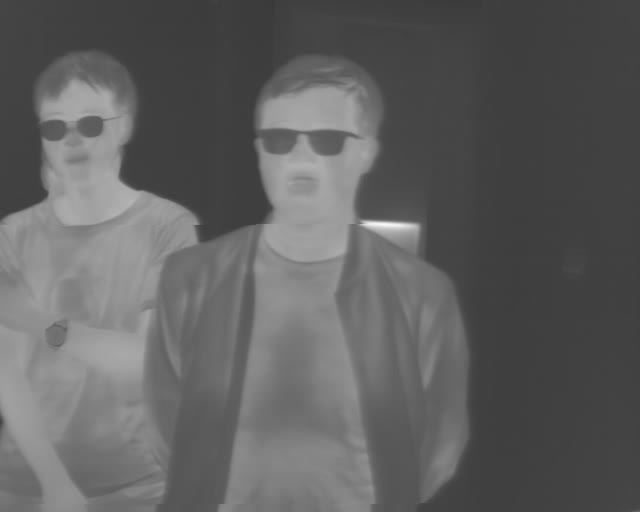face: (251, 52, 386, 224), (32, 49, 139, 182)
